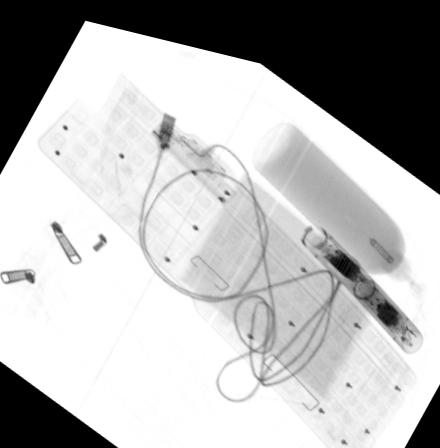Baton: (298, 206, 425, 335)
